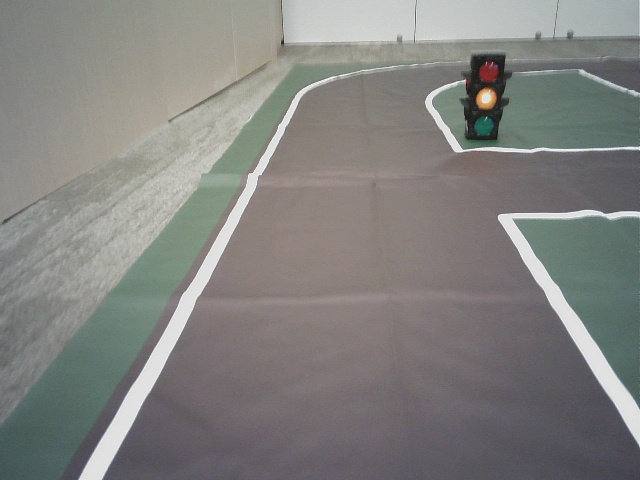yellow: (471, 57, 500, 140)
